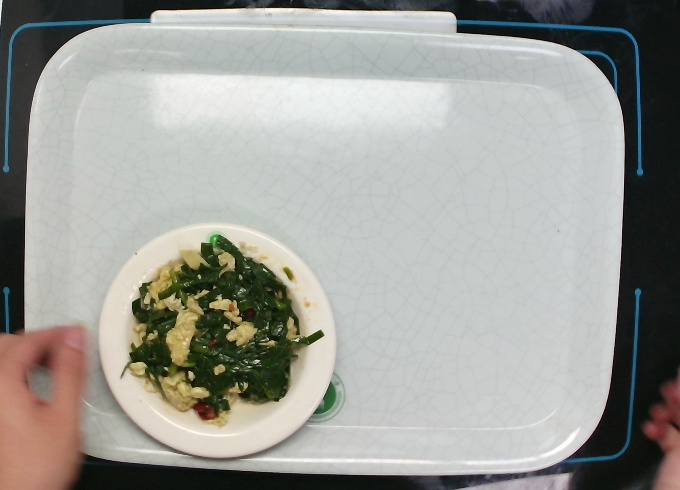WCQzf-Kuan_Bian_Yuan_Die: (92, 217, 341, 463)
